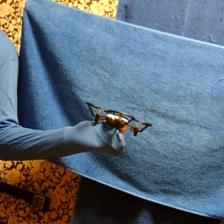drone: (87, 101, 154, 137)
